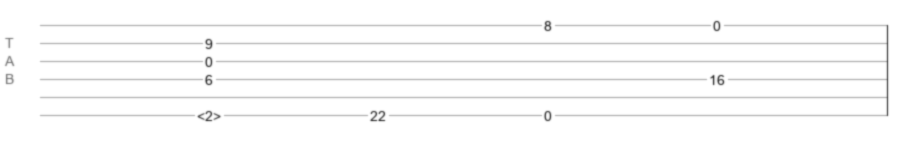0: (205, 54, 213, 64), (544, 108, 552, 118), (713, 18, 721, 28)
16: (709, 72, 725, 82)
22: (370, 108, 386, 118)
6: (205, 72, 213, 82)
8: (544, 18, 552, 28)
9: (205, 36, 213, 46)
harmonic: (197, 108, 221, 118)
